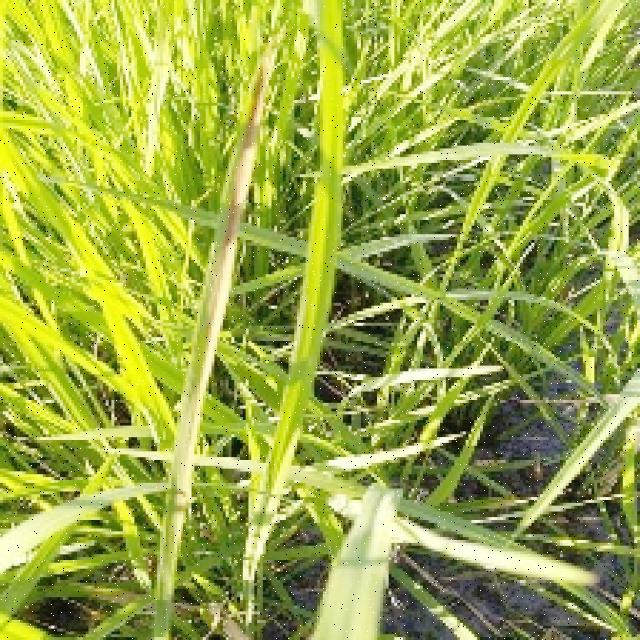health: (0, 0, 363, 511)
